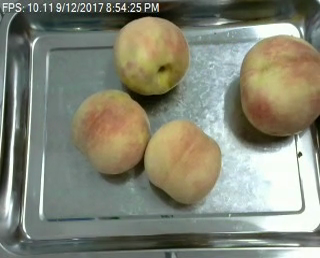Peach: (238, 33, 319, 136), (72, 88, 150, 175), (143, 119, 222, 203), (113, 15, 190, 95)
